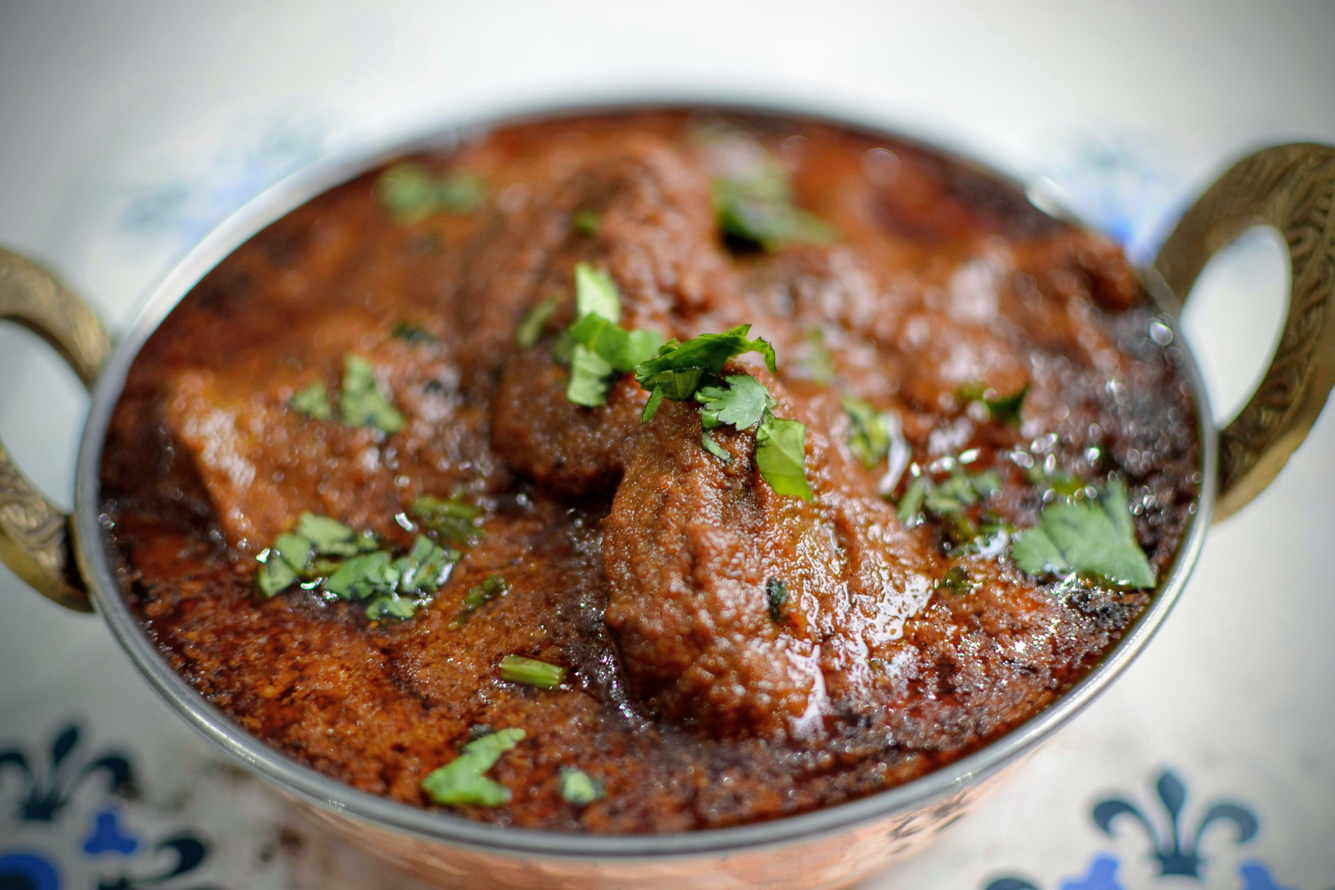MuttonCurry: (121, 105, 1134, 837)
